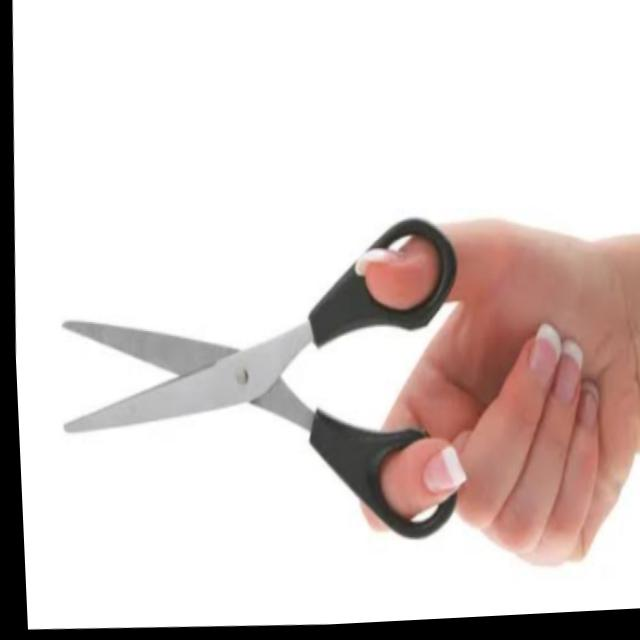scissor: (8, 179, 485, 573)
